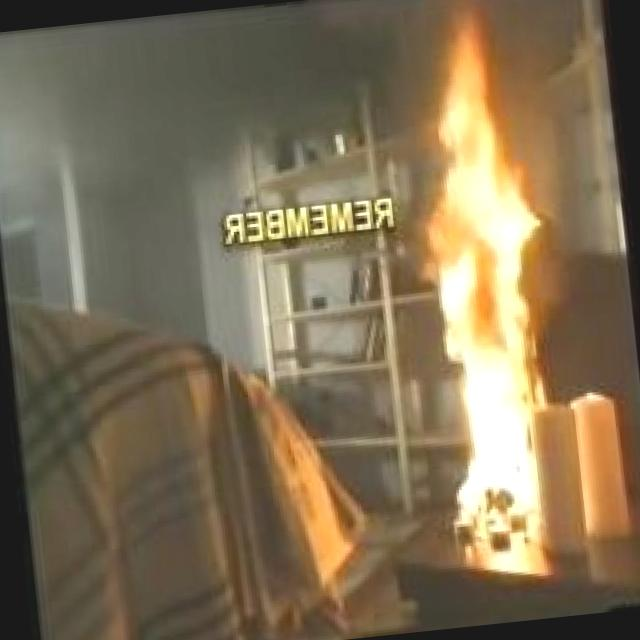fire: (381, 0, 591, 509)
